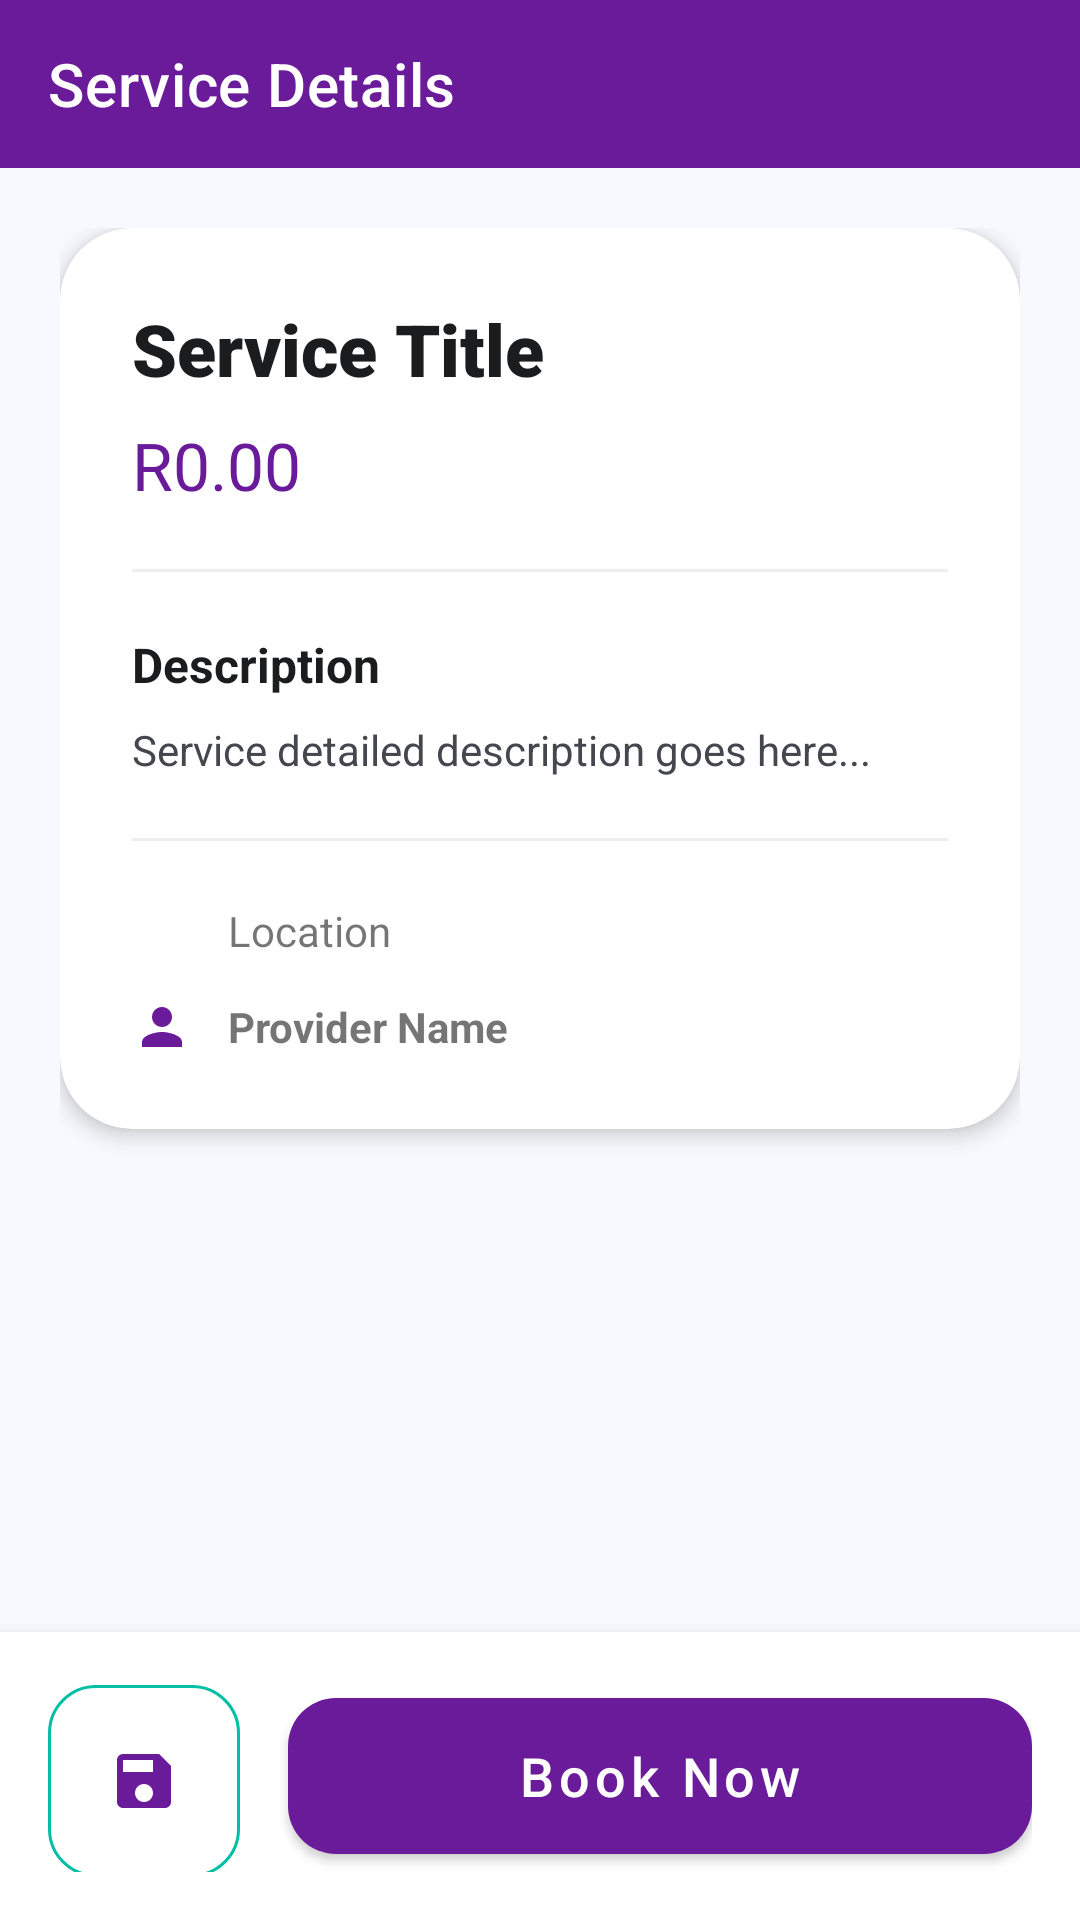

Locate icon controls on the screen. Image size 1080 × 1920, boxes as (x1, y1, x2, y2).
person: (142, 1007, 182, 1047)
save: (48, 1685, 240, 1872)
